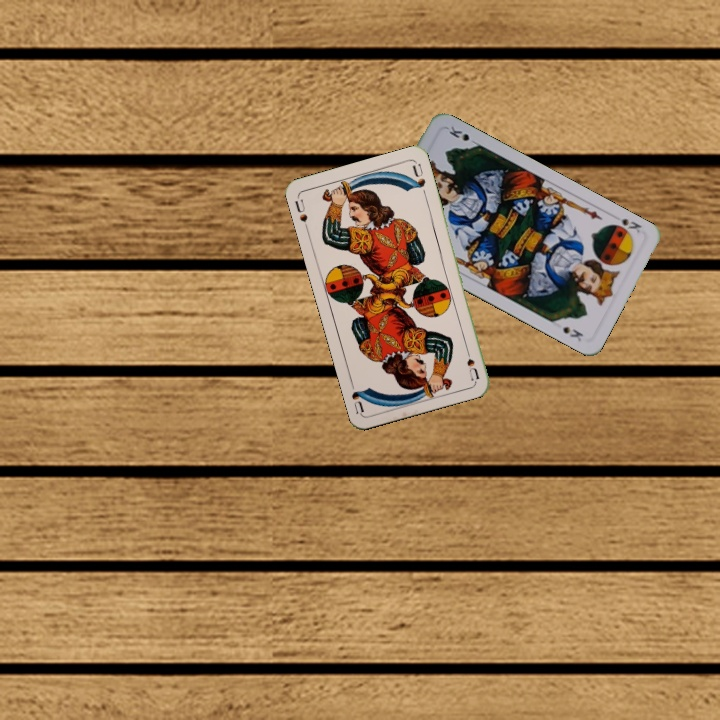SK: (618, 214, 644, 236)
SU: (461, 342, 483, 382), (291, 194, 311, 233)
